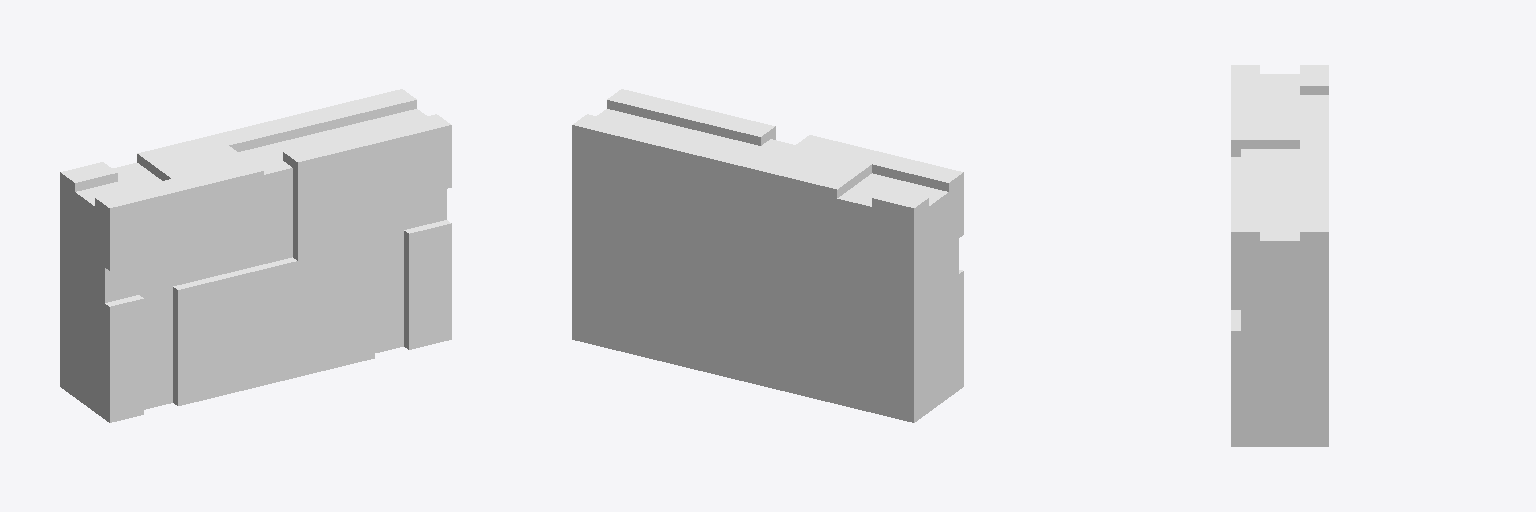
The model's file is wall_1.obj.
The picture shows the model from 3 angles: view 1: azimuth 30°, elevation 25°; view 2: azimuth 150°, elevation 25°; view 3: azimuth 270°, elevation 25°; orthographic projection.
Parts seen in each view (by area): view 1: wall_1; view 2: wall_1; view 3: wall_1.
Boxes of the visible parts, x1=… form: wall_1: x1=60, y1=89, x2=451, y2=422; wall_1: x1=572, y1=89, x2=963, y2=422; wall_1: x1=1231, y1=65, x2=1328, y2=446.
Bounding box in the file's own units: 40 × 24 × 10.